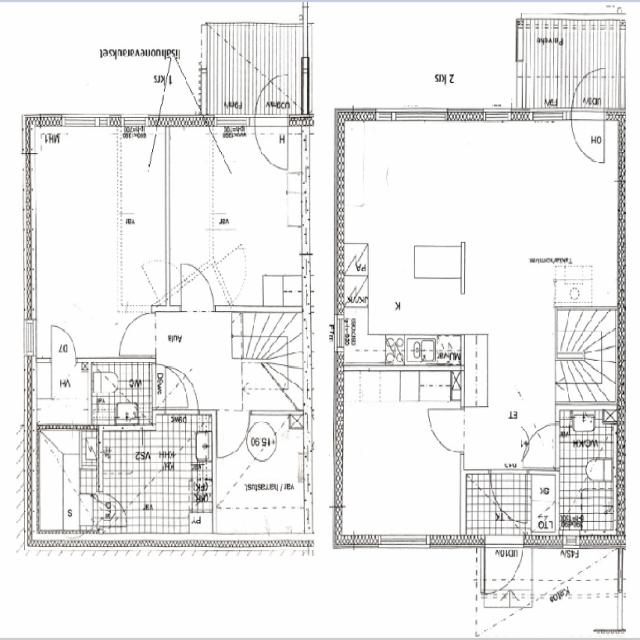door: (484, 535, 524, 599), (490, 469, 527, 523), (255, 71, 288, 127), (255, 114, 288, 169), (572, 66, 604, 122), (572, 109, 604, 164), (522, 424, 559, 467), (180, 263, 213, 311), (428, 410, 465, 452), (153, 365, 187, 407), (218, 410, 249, 456), (166, 368, 197, 414), (123, 315, 156, 355), (99, 493, 128, 527), (51, 326, 76, 363)
